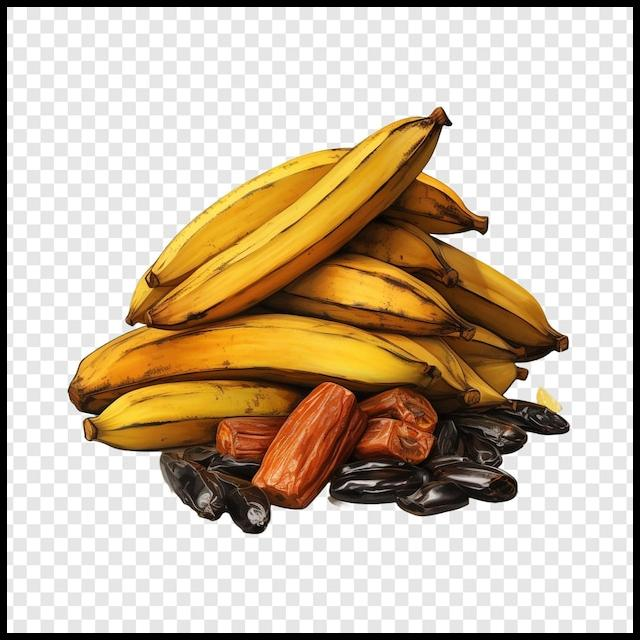food_waste: (122, 126, 530, 323), (101, 383, 580, 530), (67, 281, 460, 412), (255, 384, 395, 511), (160, 430, 226, 521), (390, 461, 466, 507), (217, 473, 274, 525)
